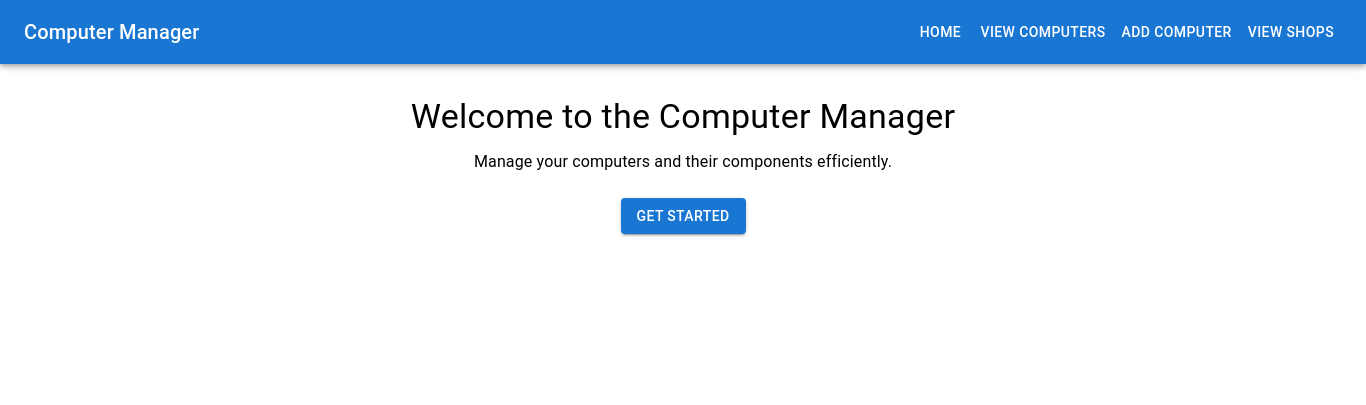
Test case: navigates between views using AppBar buttons
This screenshot has width=1366, height=405.
expect the heading "Welcome to the Computer Manager" is shown: met, box [411,96,955,136]
// Click on the "View Computers" button in the AppBar
What coordinates should you click on to do the following:
click the button "View Computers"
I would click on:
 (1043, 32)
Its box is [972,14,1114,50].
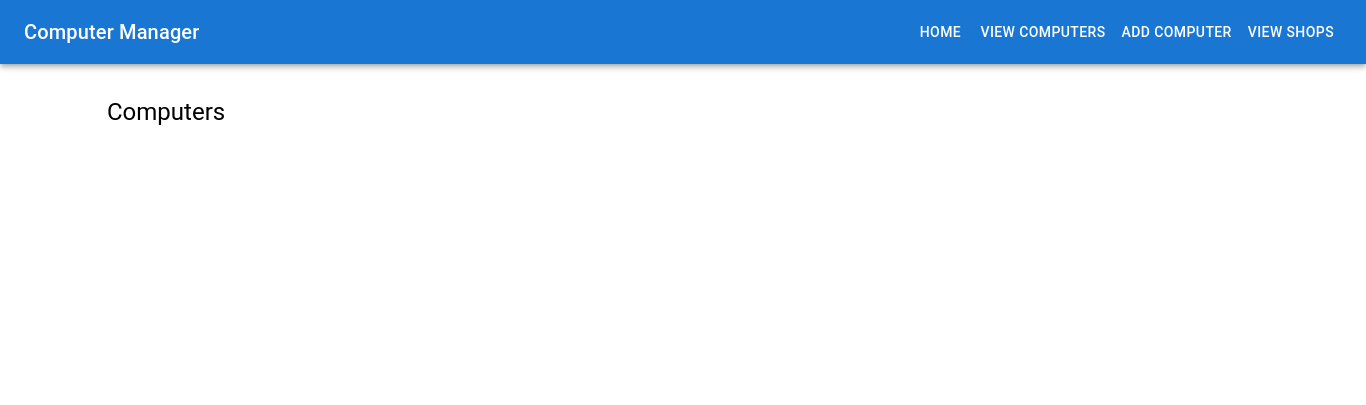
expect the heading "Welcome to the Computer Manager" is gone: met
// Click on the "Add Computer" button in the AppBar
What coordinates should you click on to do the following:
click the button "Add Computer"
I would click on:
 (1177, 32)
Its box is [1114,14,1240,50].
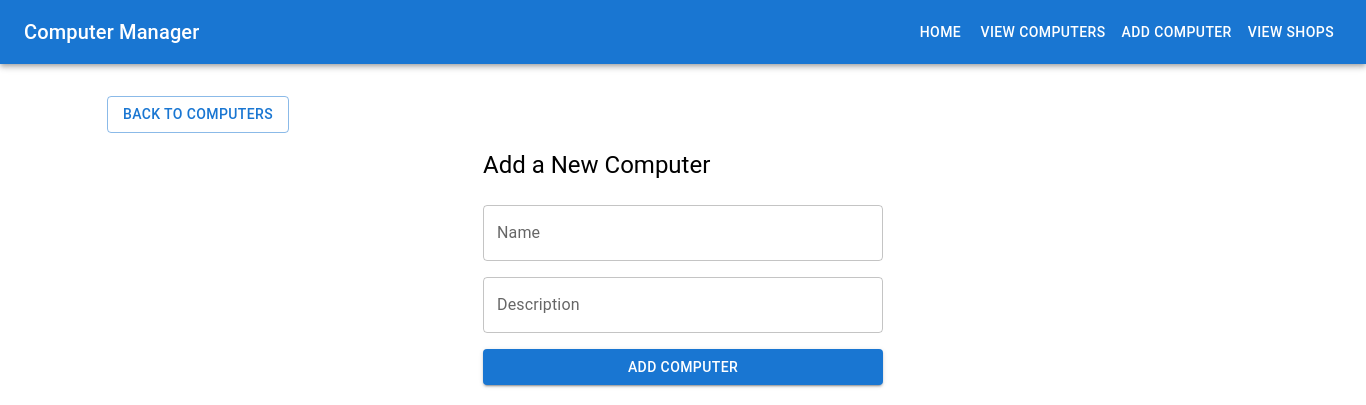
expect the button "Back to Computers" is shown: met, box [107,96,289,132]
// Click on the "Home" button in the AppBar
What coordinates should you click on to do the following:
click the button "Home"
I would click on:
 (940, 32)
Its box is [908,14,972,50].
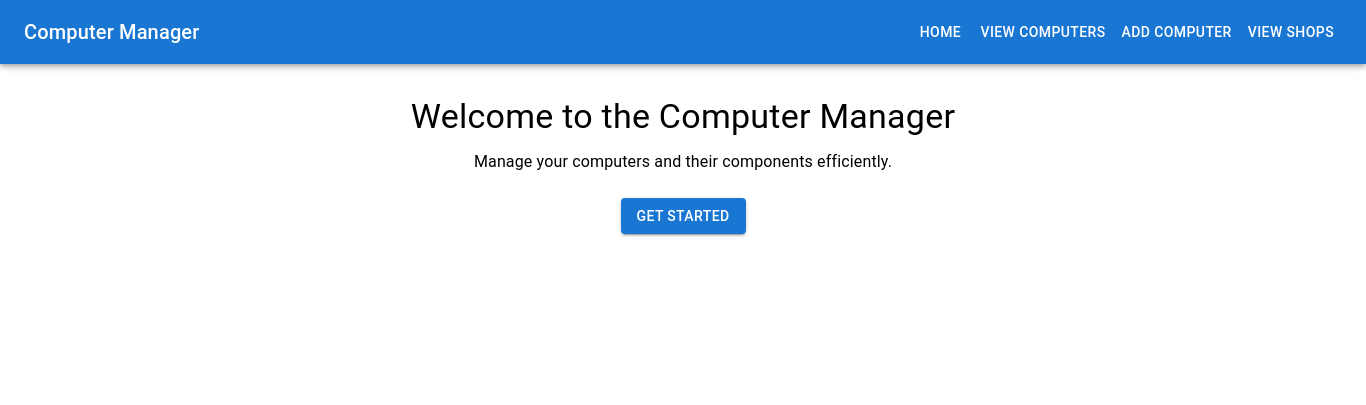
expect the heading "Welcome to the Computer Manager" is shown: met, box [411,96,955,136]
